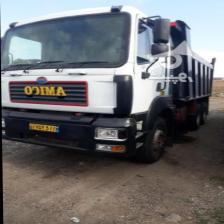plate: (29, 122, 61, 132)
